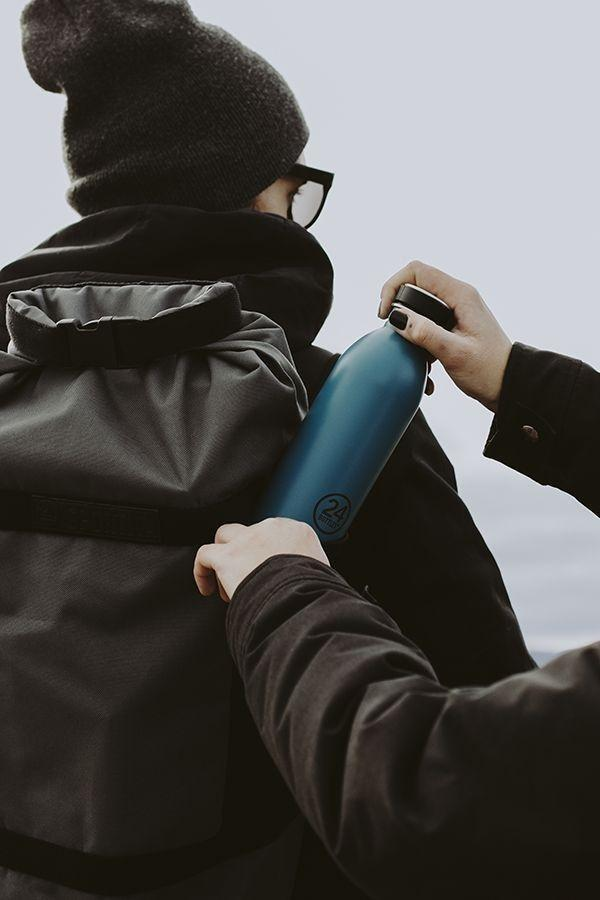gym bottle: (279, 286, 453, 530)
